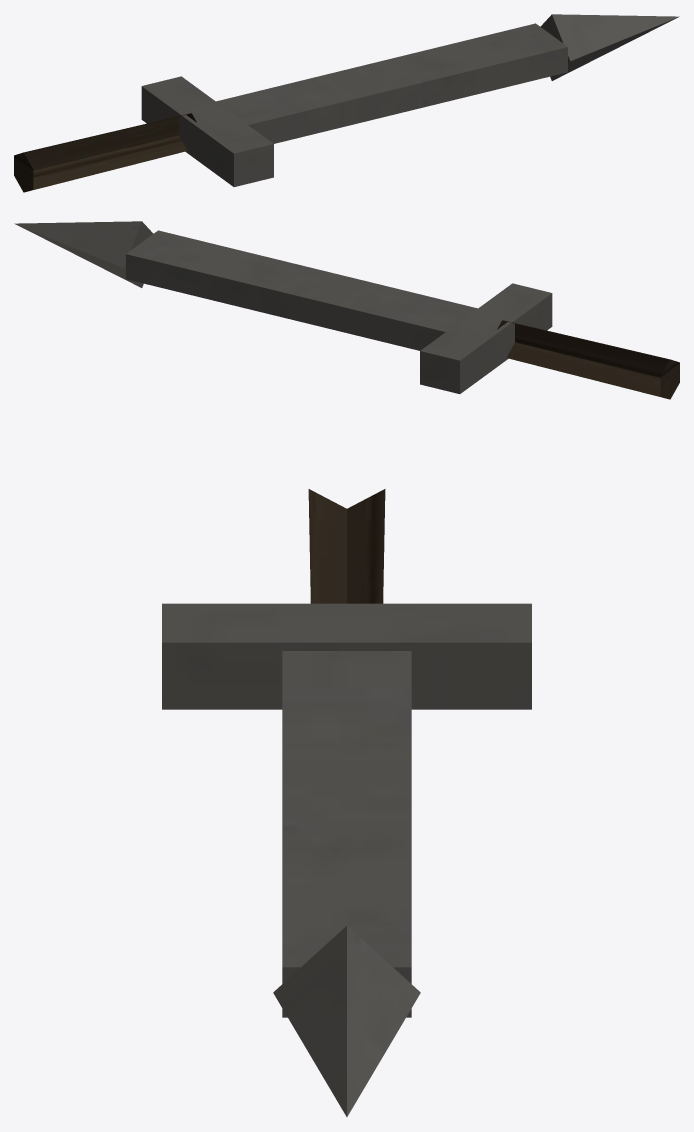
File: loot_dagger_g0.glb
3 views of the same model, one above another, from view 1: azimuth 30°, elevation 25°; view 2: azimuth 150°, elevation 25°; view 3: azimuth 270°, elevation 25° (orthographic). The views are drawn at different scales.
Parts seen in each view (by area): view 1: loot_dagger_g0; view 2: loot_dagger_g0; view 3: loot_dagger_g0.
Part boxes in pixels (bbox=[...]): loot_dagger_g0: bbox=[14, 14, 679, 192]; loot_dagger_g0: bbox=[14, 221, 679, 399]; loot_dagger_g0: bbox=[162, 489, 531, 1116].
Size of the model in its own units: 0.82 by 0.08 by 0.2.
Materials: 2 (2 with a texture image).
